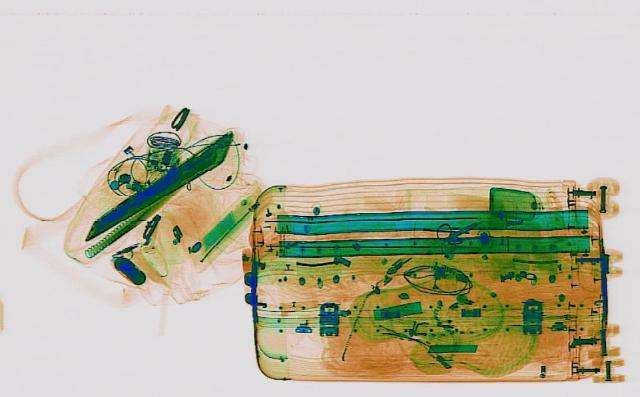Scissors: (416, 209, 498, 254)
